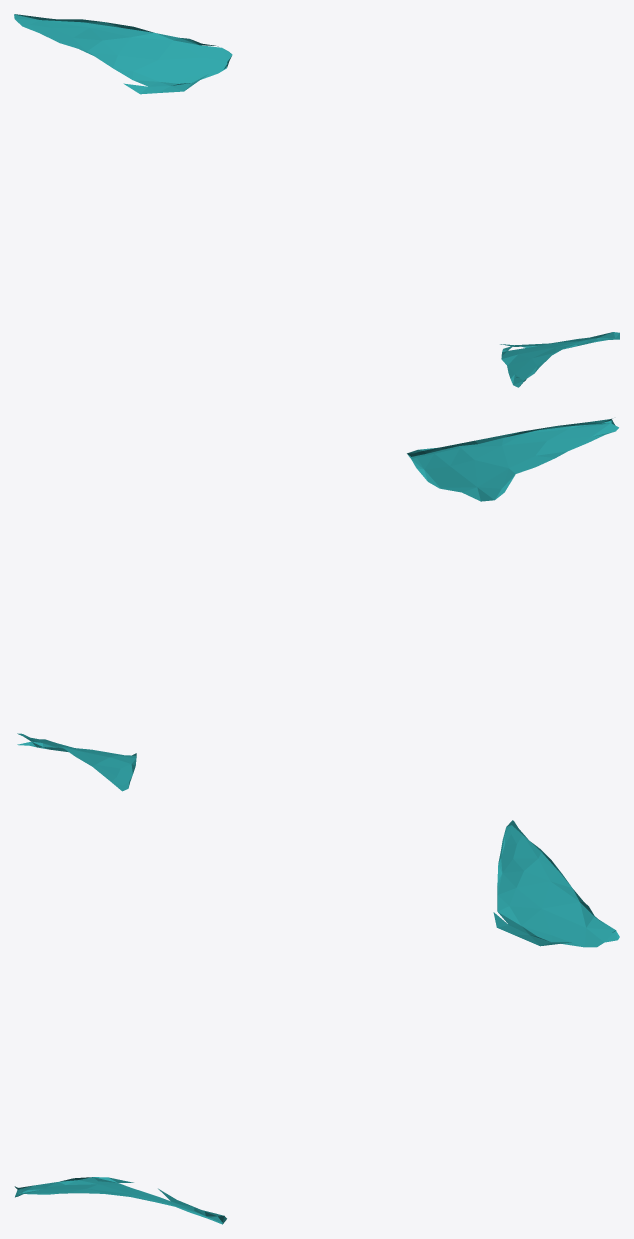
3 views of the same model, one above another, from view 1: azimuth 30°, elevation 25°; view 2: azimuth 150°, elevation 25°; view 3: azimuth 330°, elevation 25° (orthographic).
Visible parts, largest first — view 1: 469.obj; view 2: 469.obj; view 3: 469.obj.
Boxes of the visible parts, box(x1,y1,x2,y2) form: 469.obj: box(14, 14, 619, 387); 469.obj: box(17, 418, 618, 791); 469.obj: box(14, 820, 619, 1224).
Bounding box in the file's own units: 734 × 223 × 3918.
